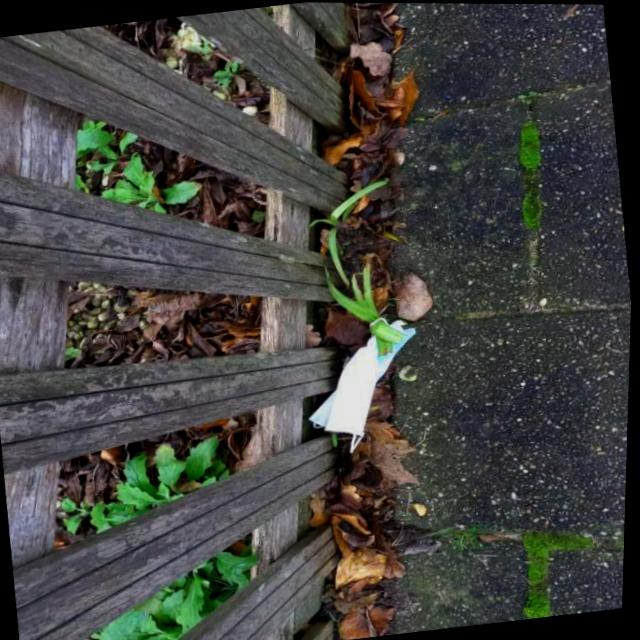Mask: (295, 310, 435, 459)
